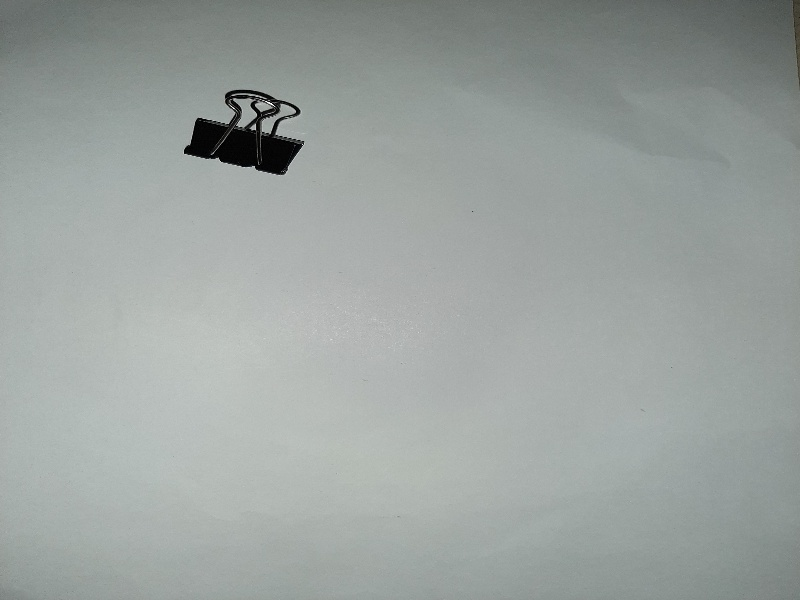Big Paperclip: (177, 71, 310, 182)
